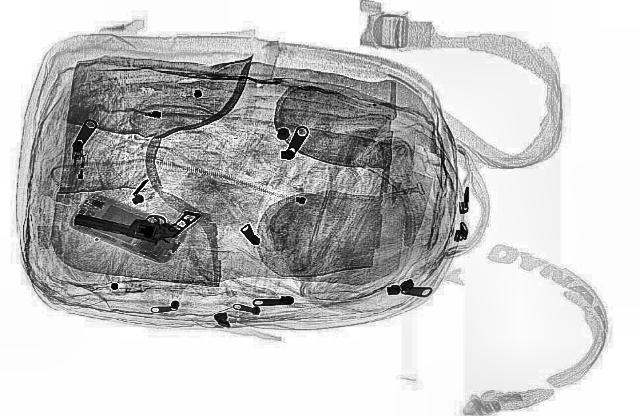Gun: (68, 188, 202, 248)
